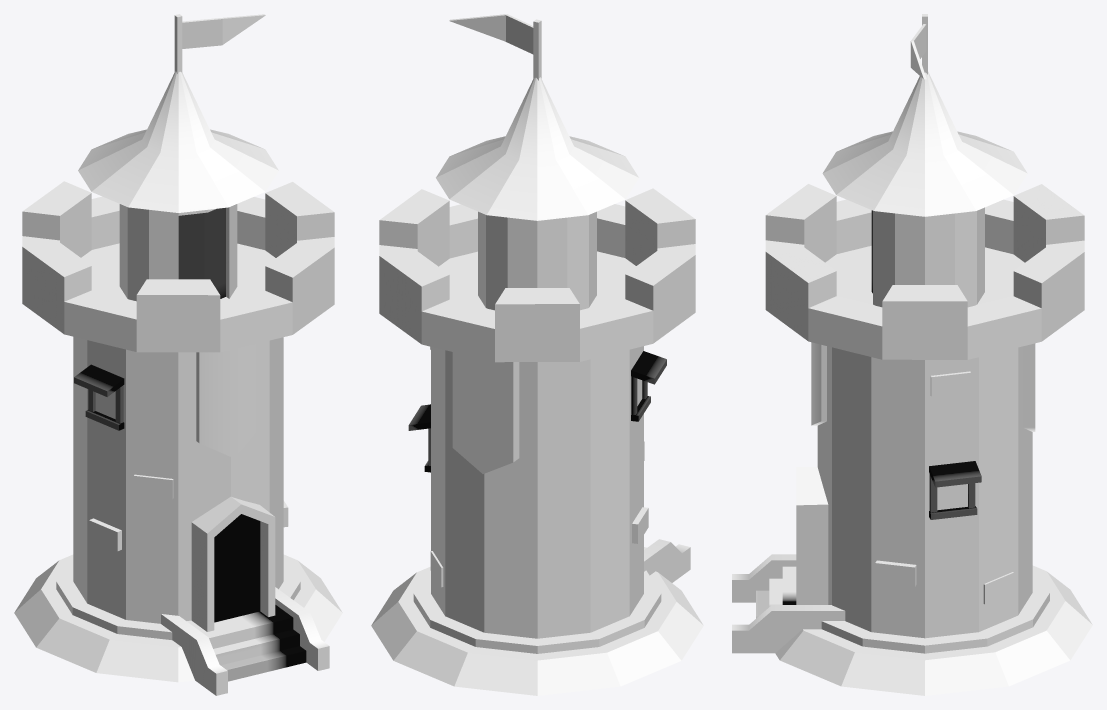
File: TowerV3.fbx
3 renders of one model, left to right at view 1: azimuth 30°, elevation 25°; view 2: azimuth 150°, elevation 25°; view 3: azimuth 270°, elevation 25°, orthographic. The views are drawn at different scales.
Parts seen in each view (by area): view 1: Tower, Flag_01, Flag_02; view 2: Tower, Flag_02, Flag_01; view 3: Tower.
Boxes of the visible parts, x1,y1,x2,y2 form: Tower: (14,14,342,695); Flag_01: (182,18,222,48); Flag_02: (222,14,265,44); Tower: (371,19,703,695); Flag_02: (449,14,505,41); Flag_01: (505,14,533,54); Tower: (732,14,1092,695).
Bounding box in the file's own units: 191 × 382 × 205.
Materials: 1 (1 with a texture image).
